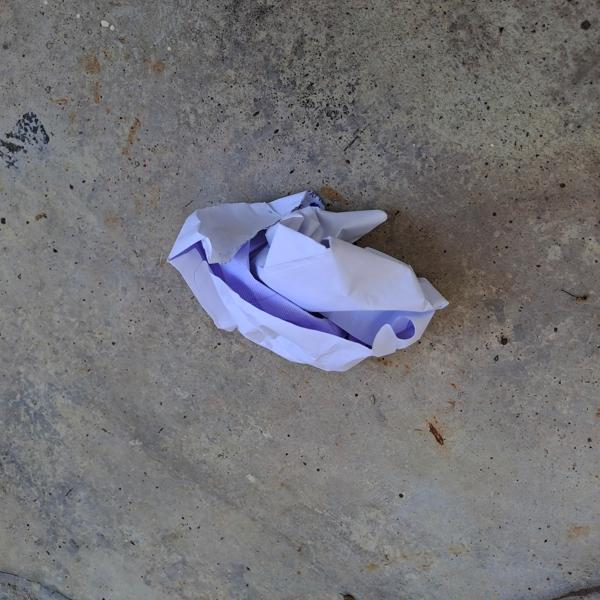Organik: (162, 187, 448, 398)
